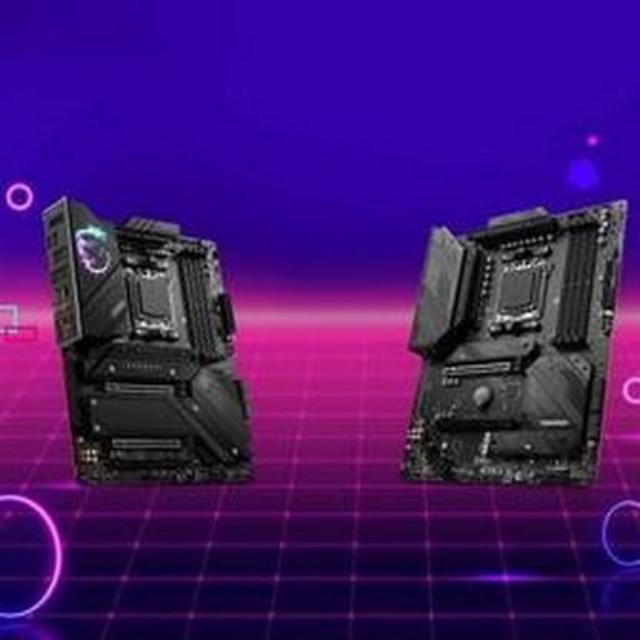Mainboard: (394, 190, 631, 492), (39, 186, 259, 492)
